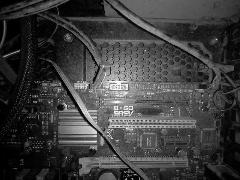electronic: (1, 1, 239, 179)
